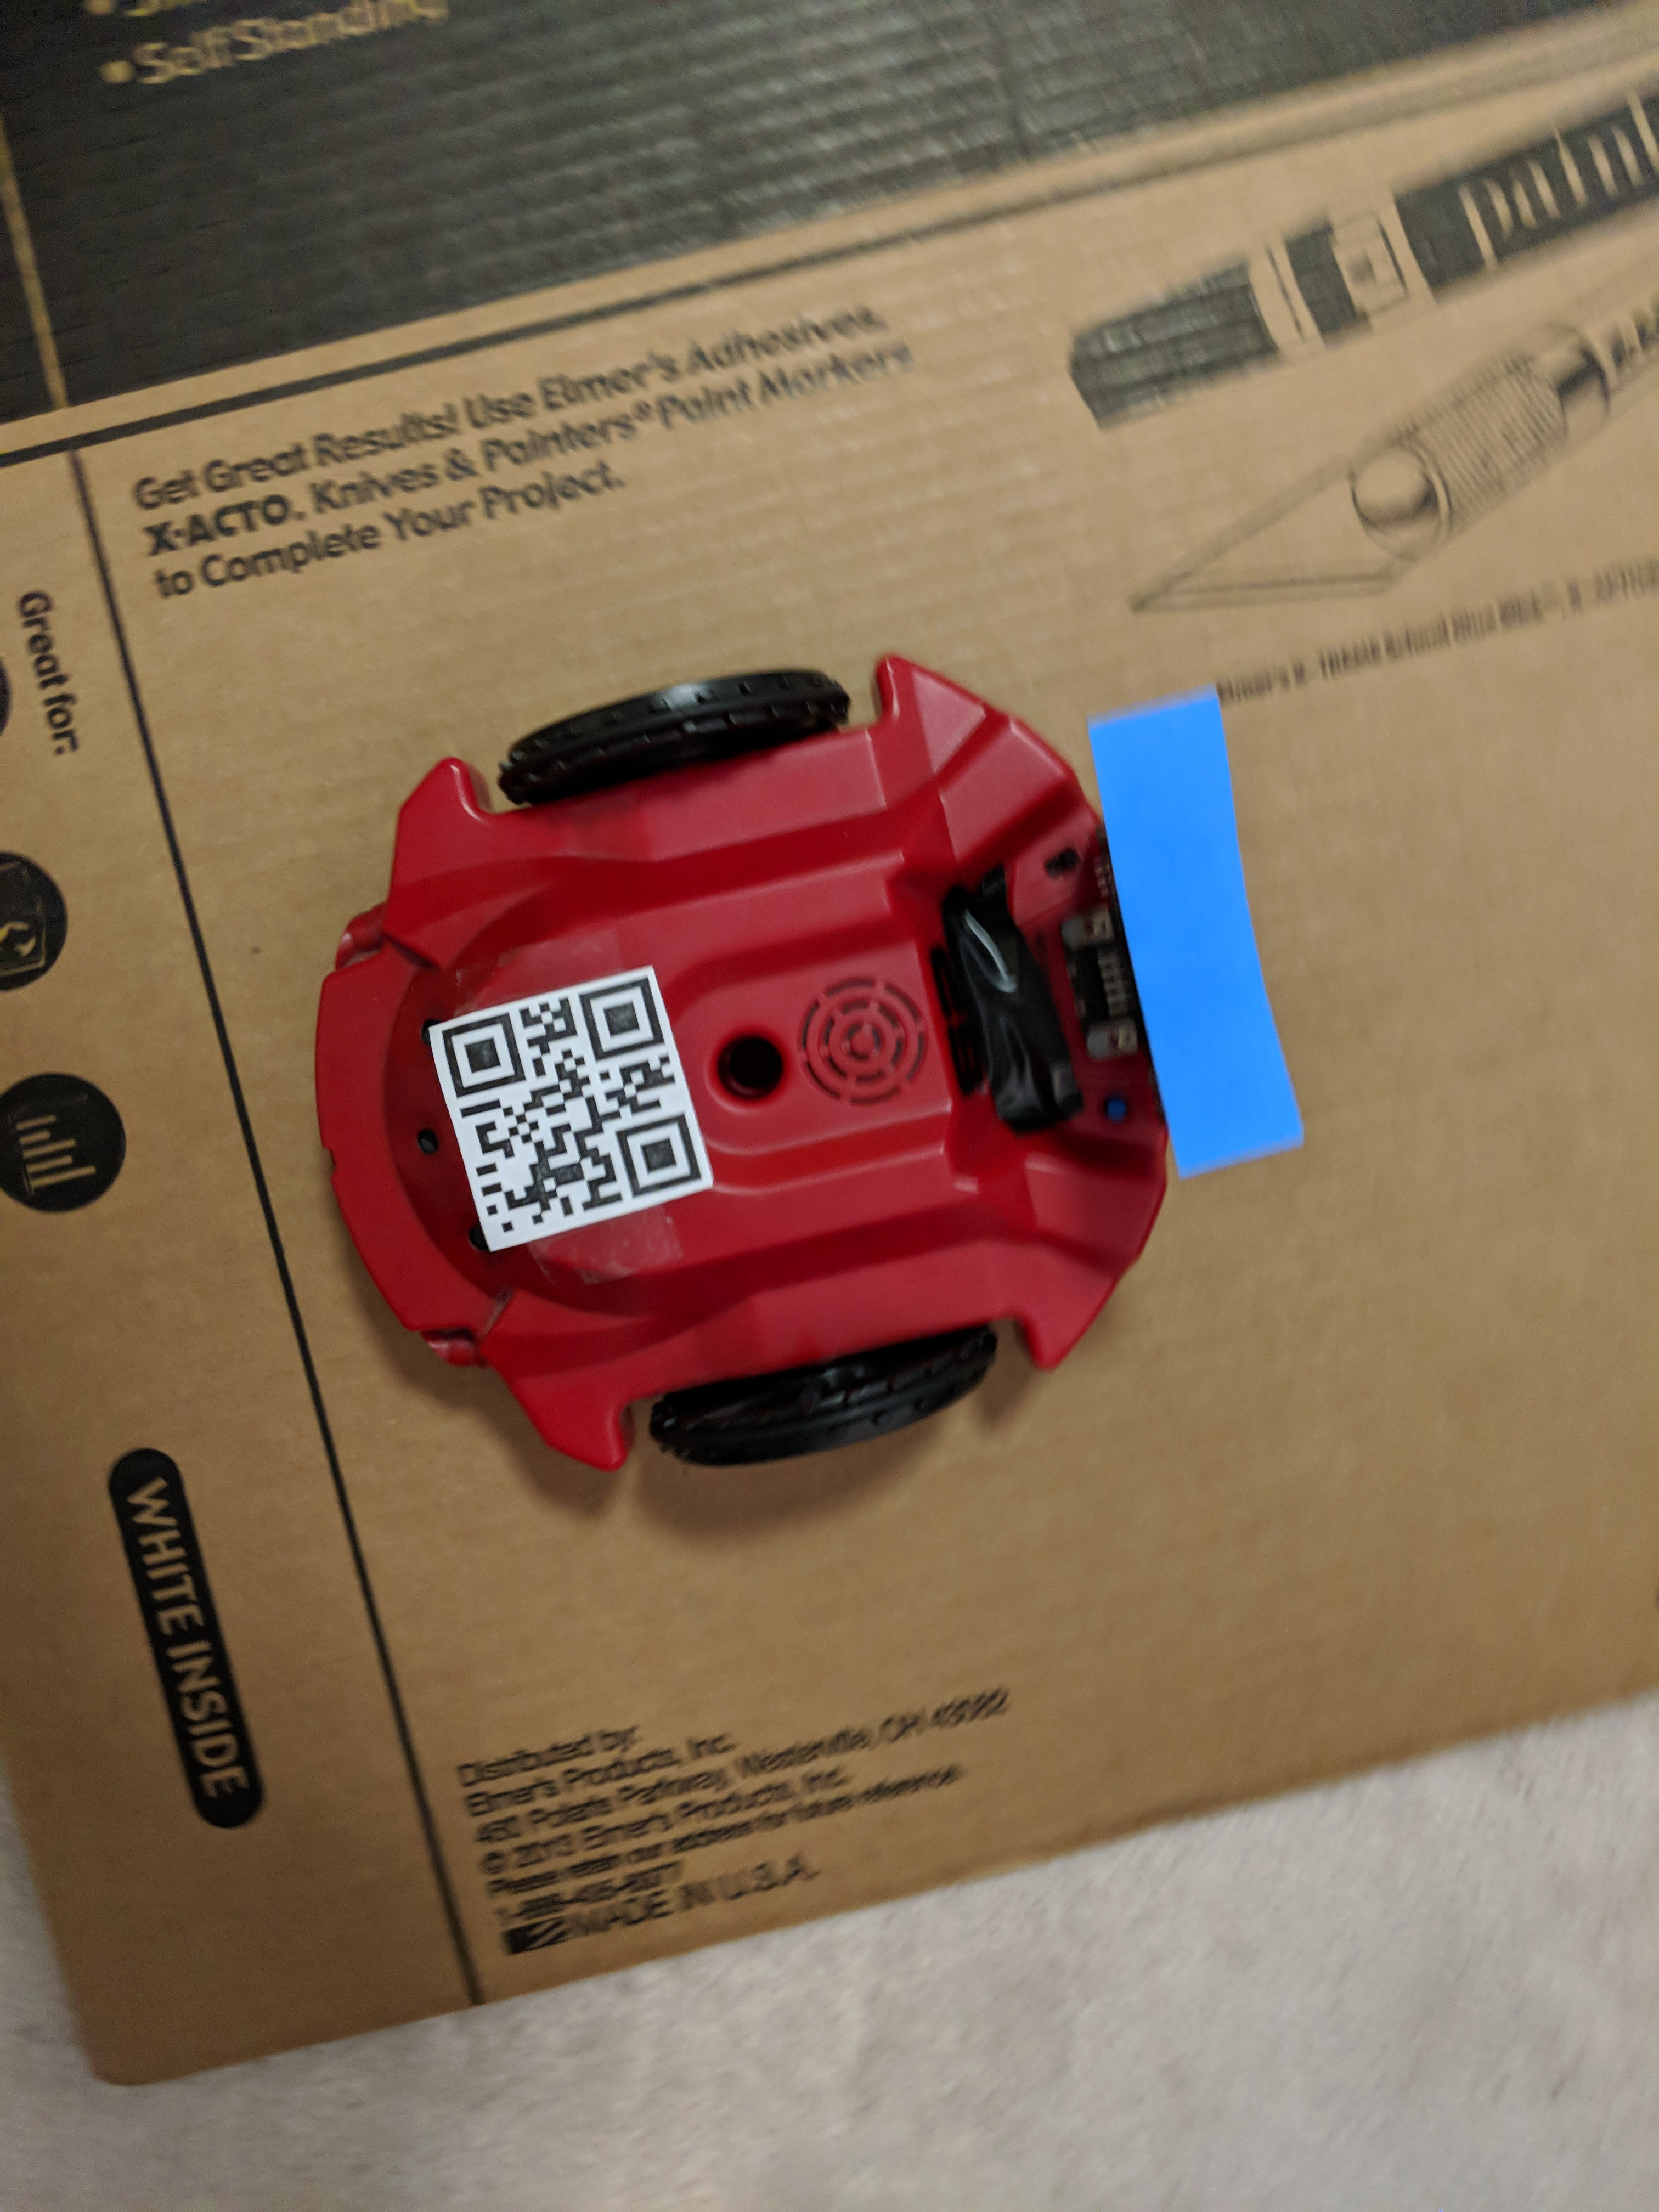chassis: (301, 587, 1253, 1573)
qr: (418, 968, 718, 1261)
